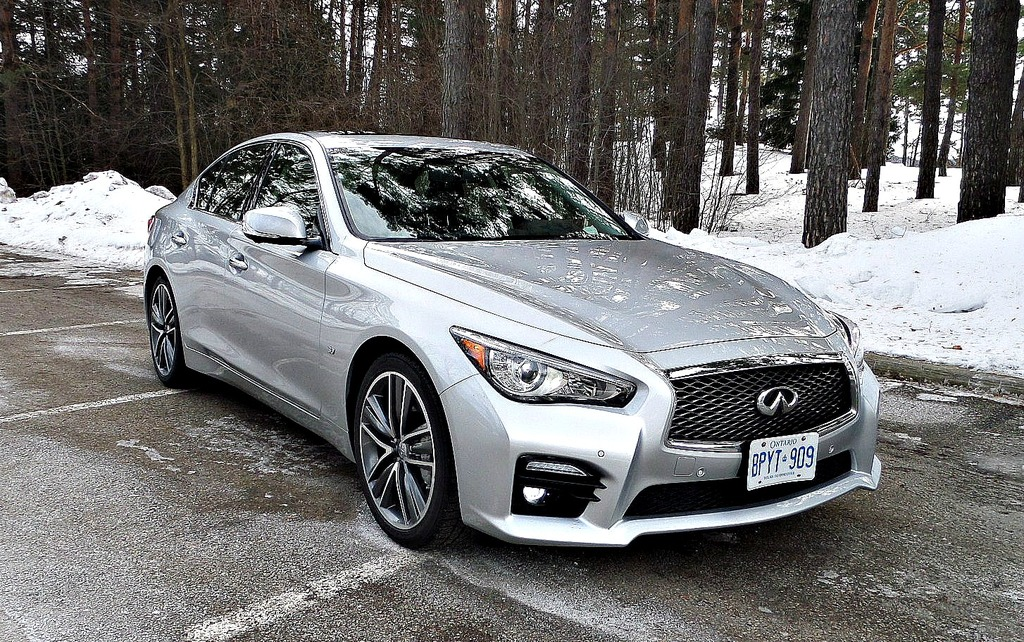mobil: (140, 135, 888, 555)
